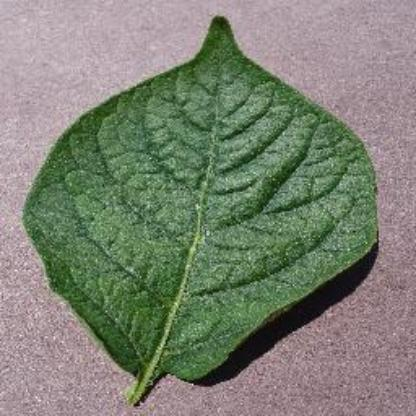Healthy-plant: (20, 13, 382, 404)
